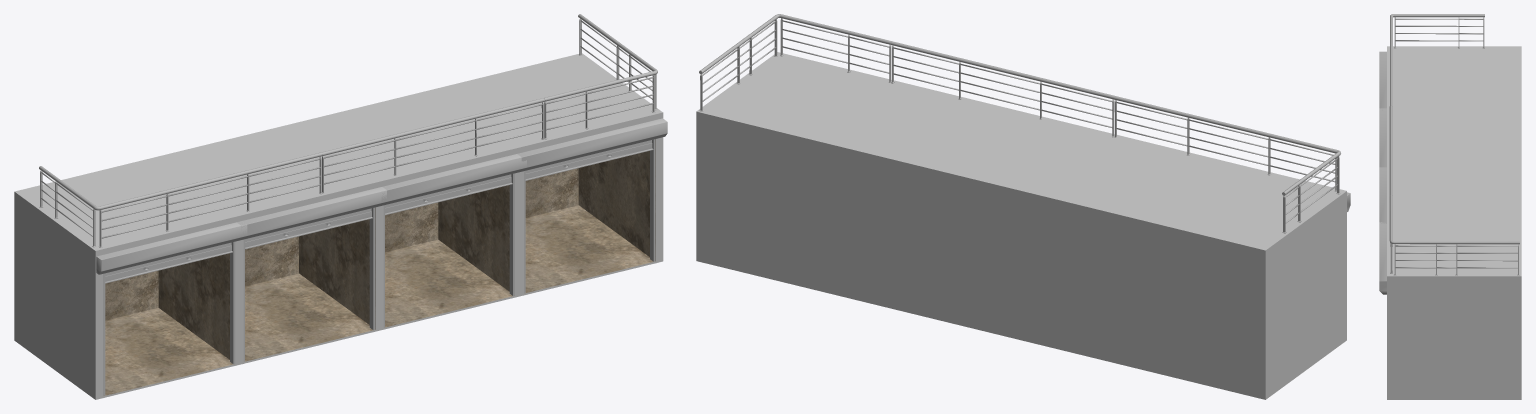
The model's file is SHOP2.dae.
3 renders of one model, left to right at view 1: azimuth 30°, elevation 25°; view 2: azimuth 150°, elevation 25°; view 3: azimuth 270°, elevation 25°, orthographic. The views are drawn at different scales.
Parts seen in each view (by area): view 1: pasted__pCube1.001, pasted__polySurface4.001, pasted__pasted__polySurface4.001, pasted__polySurface4.003, pasted__pasted__polySurface4.003, polySurface14.001, polySurface36.001, pasted__polySurface14, polySurface2; view 2: pasted__pCube1.001, polySurface14.001, polySurface36.001, pasted__polySurface14; view 3: pasted__pCube1.001, pasted__polySurface14, polySurface14.001, pasted__pasted__polySurface4.001, pasted__polySurface4.001, pasted__pasted__polySurface4.003, pasted__polySurface4.003, polySurface36.001.
Boxes of the visible parts, x1=… form: pasted__pCube1.001: x1=14, y1=53, x2=663, y2=399; pasted__polySurface4.001: x1=237, y1=187, x2=386, y2=361; pasted__pasted__polySurface4.001: x1=517, y1=118, x2=667, y2=293; pasted__polySurface4.003: x1=379, y1=154, x2=526, y2=327; pasted__pasted__polySurface4.003: x1=96, y1=222, x2=247, y2=395; polySurface14.001: x1=39, y1=152, x2=322, y2=238; polySurface36.001: x1=321, y1=98, x2=544, y2=193; pasted__polySurface14: x1=544, y1=14, x2=657, y2=139; polySurface2: x1=230, y1=242, x2=235, y2=363; pasted__pCube1.001: x1=696, y1=52, x2=1346, y2=399; polySurface14.001: x1=1113, y1=96, x2=1340, y2=233; polySurface36.001: x1=891, y1=41, x2=1114, y2=137; pasted__polySurface14: x1=699, y1=14, x2=891, y2=111; pasted__pCube1.001: x1=1387, y1=46, x2=1521, y2=399; pasted__polySurface14: x1=1389, y1=195, x2=1519, y2=275; polySurface14.001: x1=1390, y1=14, x2=1484, y2=105; pasted__pasted__polySurface4.001: x1=1379, y1=222, x2=1386, y2=294; pasted__polySurface4.001: x1=1379, y1=108, x2=1386, y2=167; pasted__pasted__polySurface4.003: x1=1379, y1=51, x2=1386, y2=110; pasted__polySurface4.003: x1=1379, y1=167, x2=1386, y2=223; polySurface36.001: x1=1389, y1=105, x2=1392, y2=195.
Size of the model in its own units: 0.8315 by 0.218 by 0.2661.
